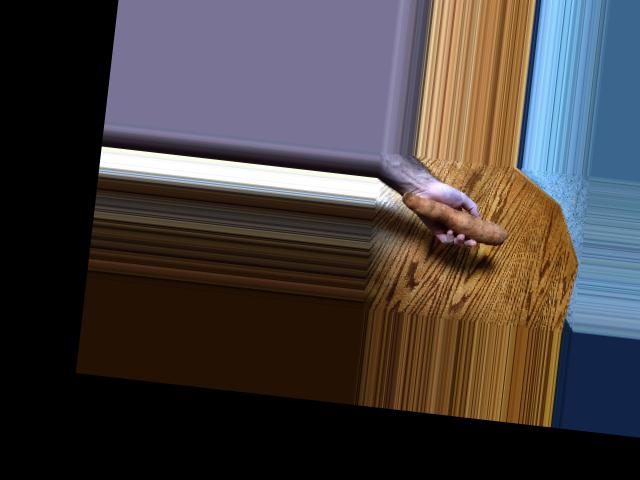sweet_potato: (403, 196, 505, 249)
